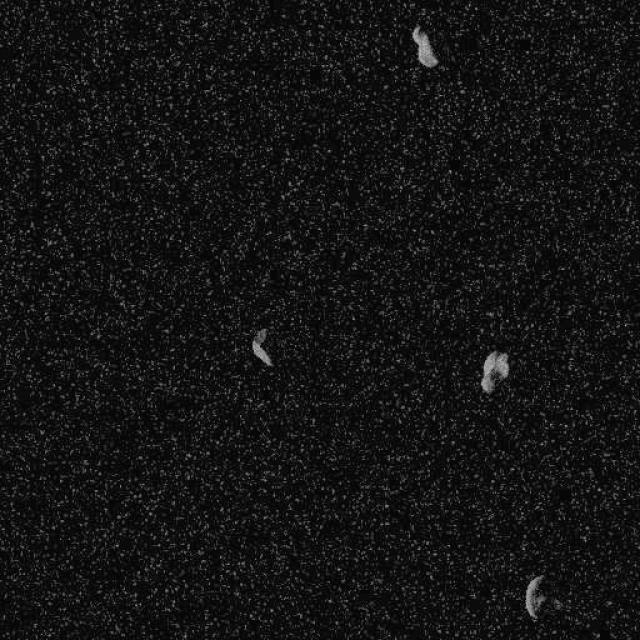D2: (479, 348, 509, 394), (410, 23, 439, 68), (524, 574, 548, 620), (250, 327, 274, 368)
